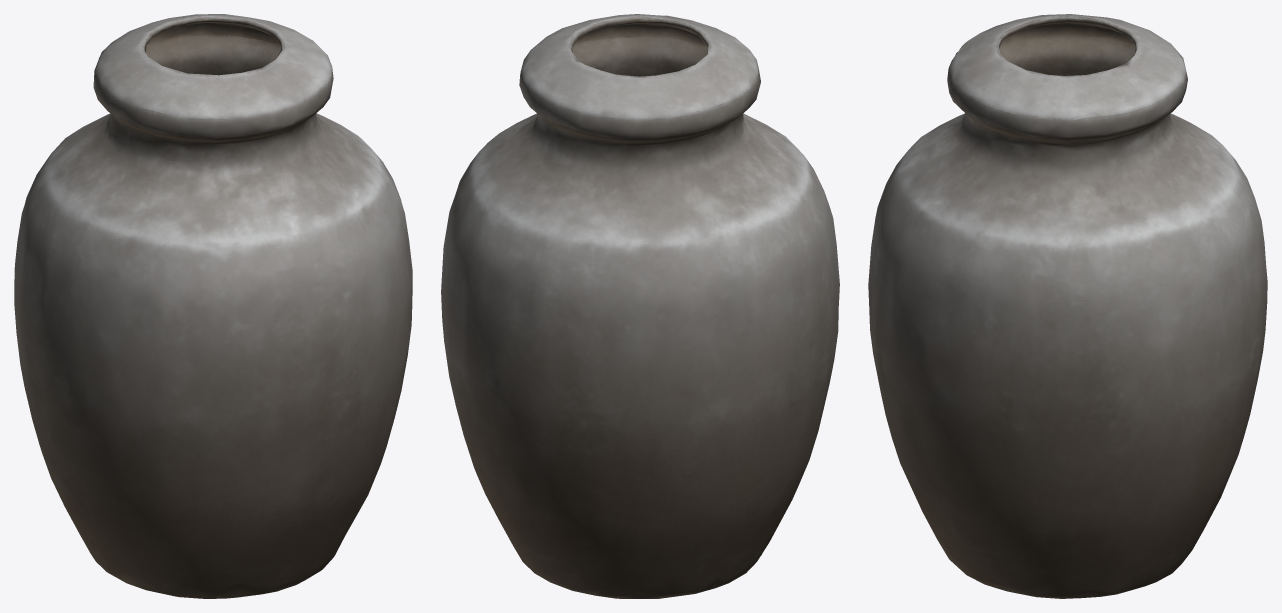
The model's file is crypt_StoneUrn.glb.
The picture shows the model from 3 angles, left to right: view 1: azimuth 30°, elevation 25°; view 2: azimuth 150°, elevation 25°; view 3: azimuth 270°, elevation 25°; orthographic projection.
Visible parts, largest first — view 1: world; view 2: world; view 3: world.
Boxes of the visible parts, left/top/right/bottom form: world: left=14, top=14, right=412, bottom=598; world: left=441, top=14, right=839, bottom=598; world: left=868, top=14, right=1267, bottom=598.
Size of the model in its own units: 0.7168 by 1 by 0.7175.
Materials: 1 (1 with a texture image).
